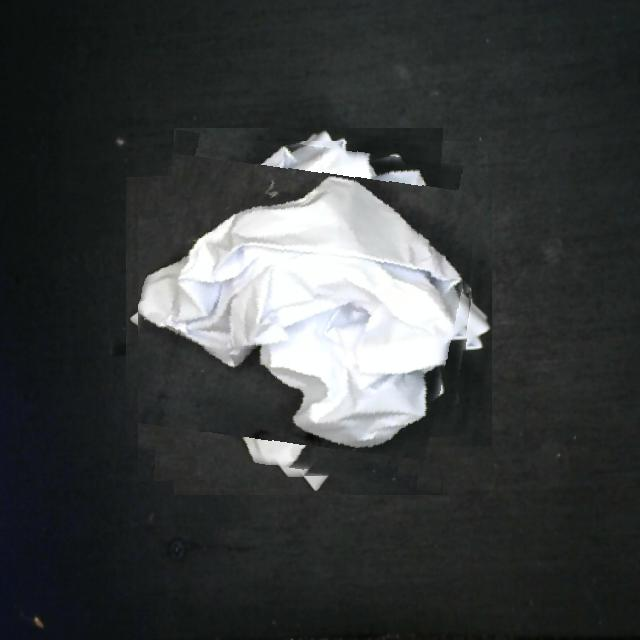biodegradable: (138, 141, 479, 482)
